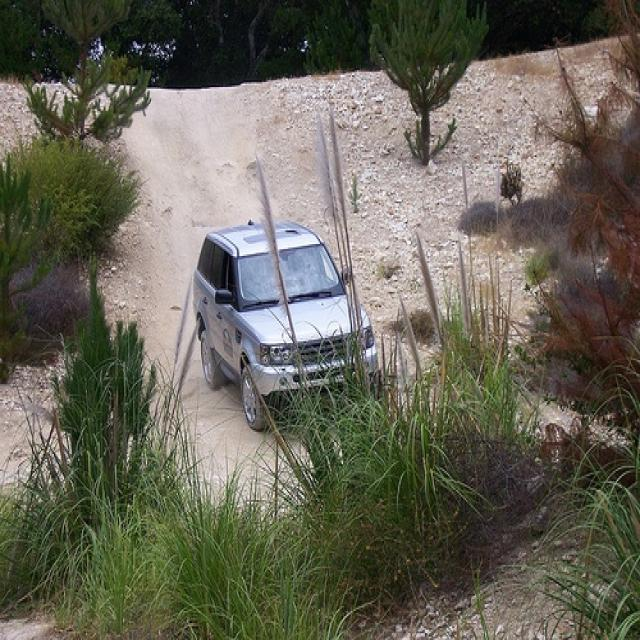car: (193, 220, 380, 434)
